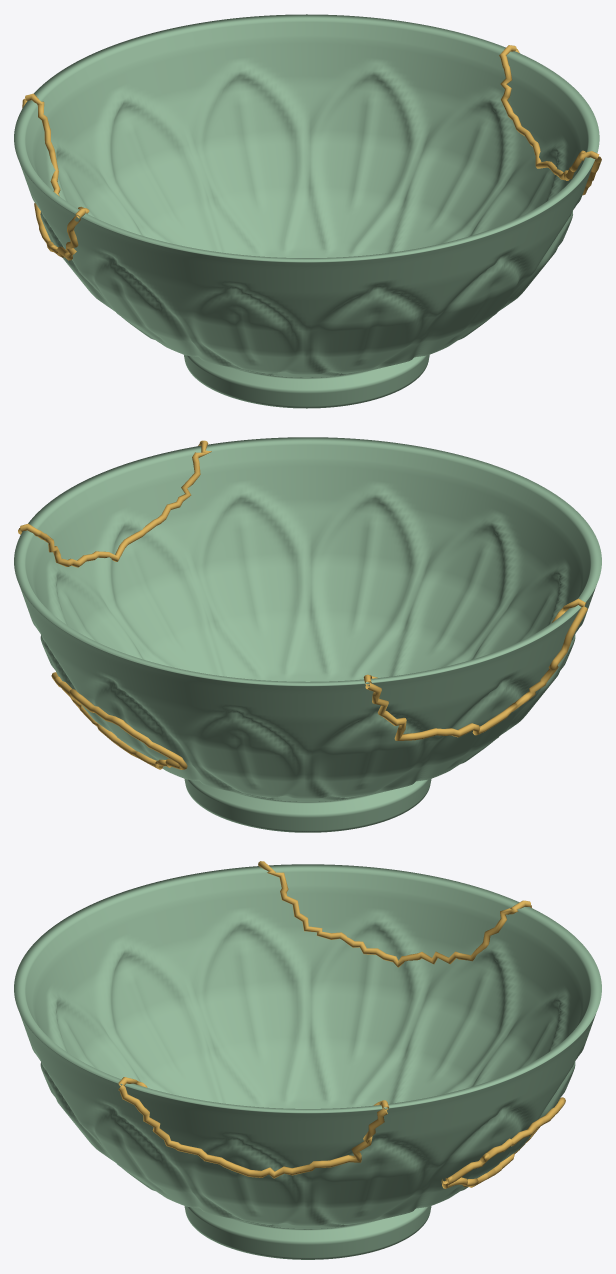
File: lab_bowl.glb
The picture shows the model from 3 angles, top to bottom: view 1: azimuth 30°, elevation 25°; view 2: azimuth 150°, elevation 25°; view 3: azimuth 270°, elevation 25°; orthographic projection.
Visible parts, largest first — view 1: bowl; view 2: bowl; view 3: bowl.
Boxes of the visible parts, box(x1,y1,x2,y2) form: bowl: box(14, 14, 601, 408); bowl: box(14, 437, 601, 832); bowl: box(14, 861, 601, 1259).
Size of the model in its own units: 0.1731 by 0.0731 by 0.1724.
